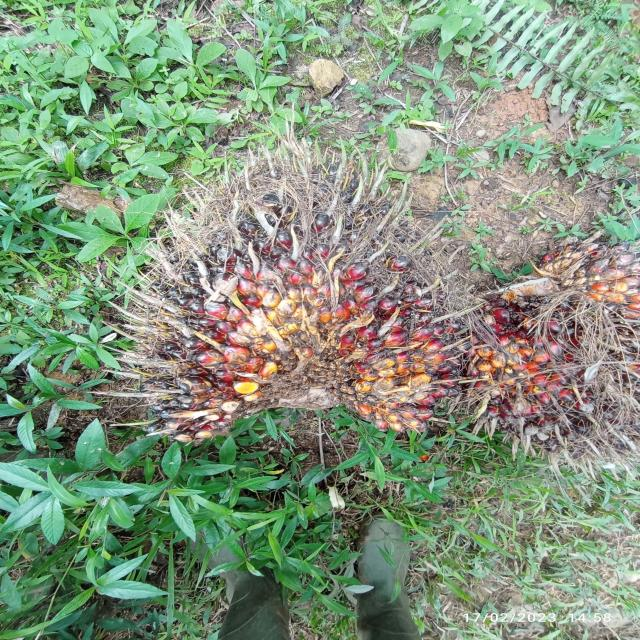fraksi 00: (81, 133, 501, 456)
fraksi 1: (466, 206, 640, 493)
